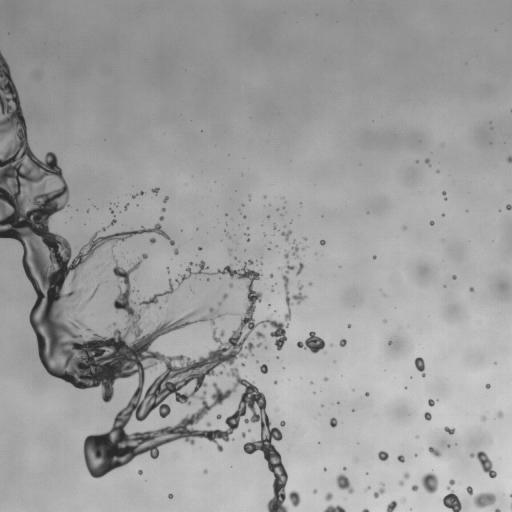droplet: (466, 486, 496, 508), (297, 331, 325, 353), (284, 240, 307, 258), (421, 471, 438, 493), (336, 474, 353, 493), (428, 447, 441, 457), (386, 501, 397, 511), (281, 230, 291, 240), (378, 451, 388, 461), (329, 417, 337, 427), (444, 426, 454, 434), (260, 364, 267, 373), (325, 492, 332, 501), (109, 218, 116, 226), (424, 412, 431, 420), (397, 454, 404, 462), (151, 187, 158, 194), (339, 339, 346, 346), (411, 484, 418, 491), (428, 399, 434, 406), (425, 158, 430, 166), (497, 411, 503, 417), (506, 155, 511, 162), (149, 238, 156, 243), (163, 196, 168, 202), (506, 204, 511, 210), (280, 420, 285, 426), (429, 220, 434, 225), (320, 240, 325, 245), (469, 287, 474, 292), (216, 414, 221, 419), (124, 203, 128, 209), (110, 209, 114, 215), (101, 226, 107, 230), (174, 248, 178, 254), (362, 508, 369, 511), (485, 384, 490, 388), (481, 416, 486, 420), (241, 432, 245, 437), (168, 493, 172, 498), (494, 508, 500, 511), (442, 191, 446, 195), (452, 275, 456, 279), (112, 322, 116, 326), (365, 392, 369, 396), (206, 422, 210, 426), (138, 470, 142, 474), (313, 489, 317, 493), (273, 224, 276, 229), (228, 248, 231, 253), (400, 499, 405, 502), (237, 285, 241, 288), (347, 324, 350, 328), (388, 340, 391, 344), (273, 381, 277, 384), (203, 470, 207, 473), (365, 487, 369, 490), (248, 196, 251, 199), (162, 208, 165, 211), (303, 237, 306, 240), (198, 247, 201, 250), (373, 256, 376, 259), (166, 267, 169, 270), (241, 363, 244, 366), (324, 377, 327, 380), (275, 408, 279, 410), (436, 170, 439, 172), (442, 213, 444, 216), (227, 234, 229, 237), (270, 274, 272, 277), (158, 306, 160, 309), (233, 313, 236, 315), (264, 346, 267, 348), (310, 381, 312, 384), (416, 435, 418, 438), (414, 454, 417, 456), (343, 467, 345, 470), (323, 468, 326, 470), (444, 198, 446, 200), (115, 203, 117, 205), (87, 209, 89, 211), (243, 215, 245, 217), (267, 216, 269, 218), (245, 233, 247, 235), (247, 239, 249, 241), (220, 285, 222, 287), (107, 326, 109, 328), (447, 444, 449, 446)
ligament: (0, 51, 304, 509), (470, 451, 497, 477), (442, 479, 461, 511), (79, 285, 99, 311), (414, 357, 425, 377), (373, 482, 384, 498), (398, 472, 409, 485), (323, 505, 346, 511), (131, 191, 144, 198), (510, 504, 511, 509), (510, 493, 511, 497)
